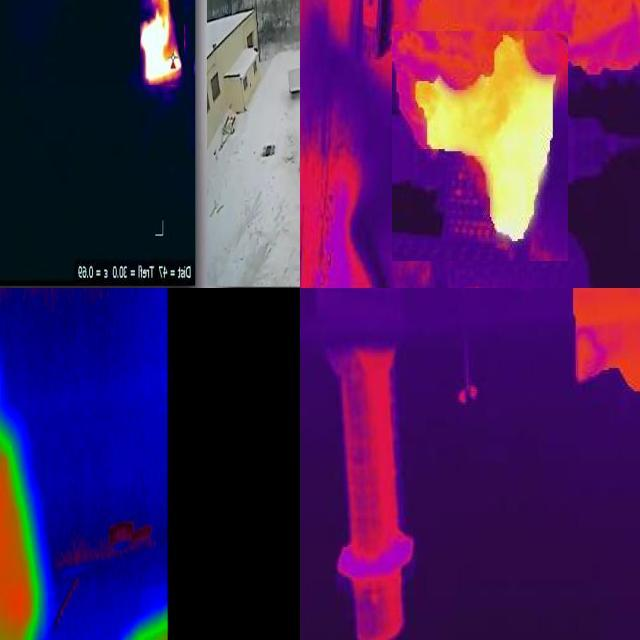fire: (393, 32, 569, 262), (141, 1, 185, 86)
